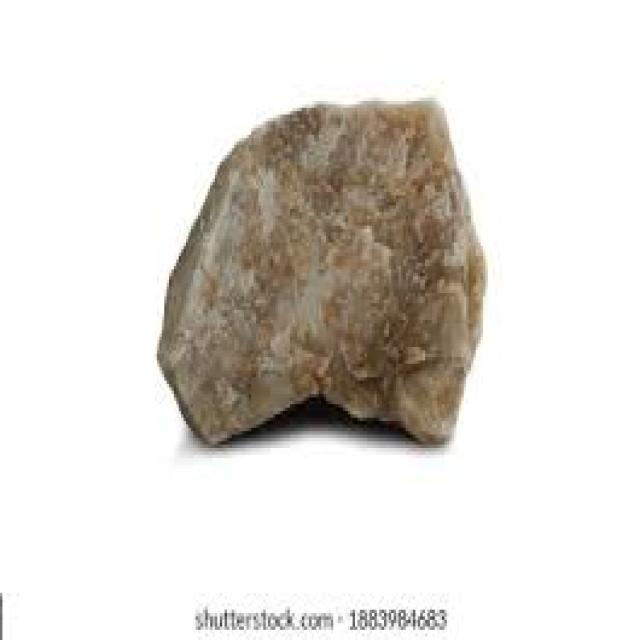Metamorphic: (160, 81, 510, 455)
